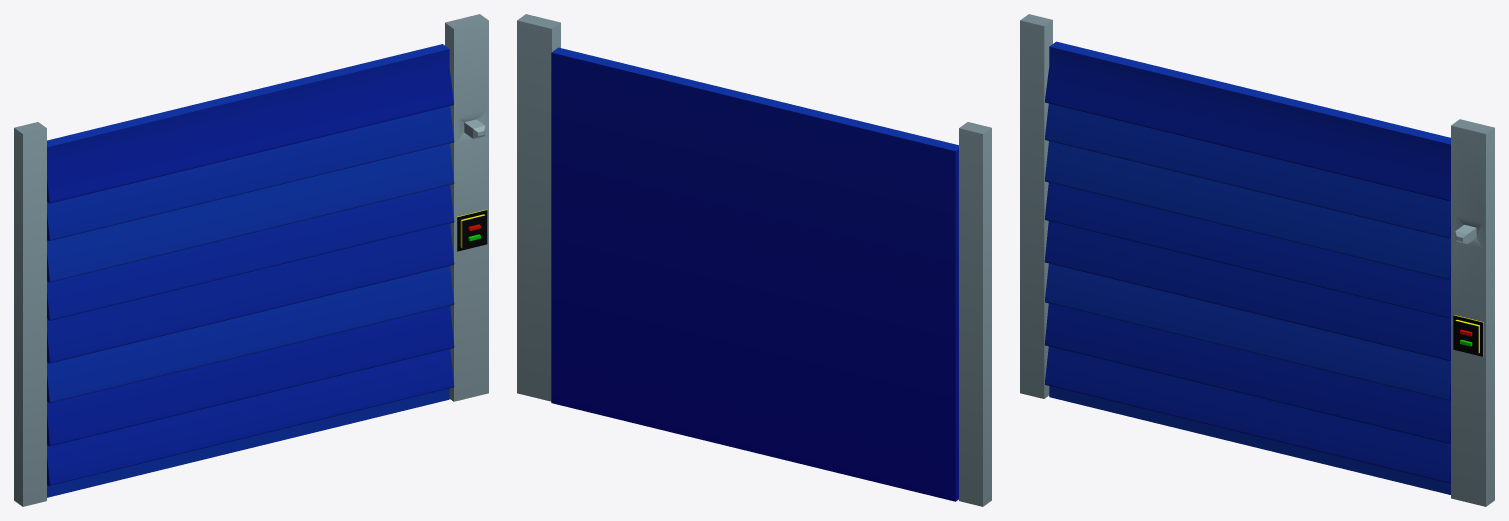
File: Puerta.fbx
3 views of the same model, side by side, from view 1: azimuth 30°, elevation 25°; view 2: azimuth 150°, elevation 25°; view 3: azimuth 330°, elevation 25° (orthographic).
Parts seen in each view (by area): view 1: Box009, Box010, Box011; view 2: Box009, Box010, Box011; view 3: Box009, Box010, Box011.
Part boxes in pixels (bbox=[...]): Box009: bbox=[47, 44, 454, 497]; Box010: bbox=[445, 14, 488, 401]; Box011: bbox=[14, 122, 46, 506]; Box009: bbox=[551, 47, 958, 501]; Box010: bbox=[517, 14, 560, 401]; Box011: bbox=[959, 122, 991, 506]; Box009: bbox=[1044, 41, 1450, 494]; Box010: bbox=[1451, 119, 1494, 506]; Box011: bbox=[1020, 14, 1052, 398].
Bounding box in the file's own units: 159 × 121 × 11.55.
